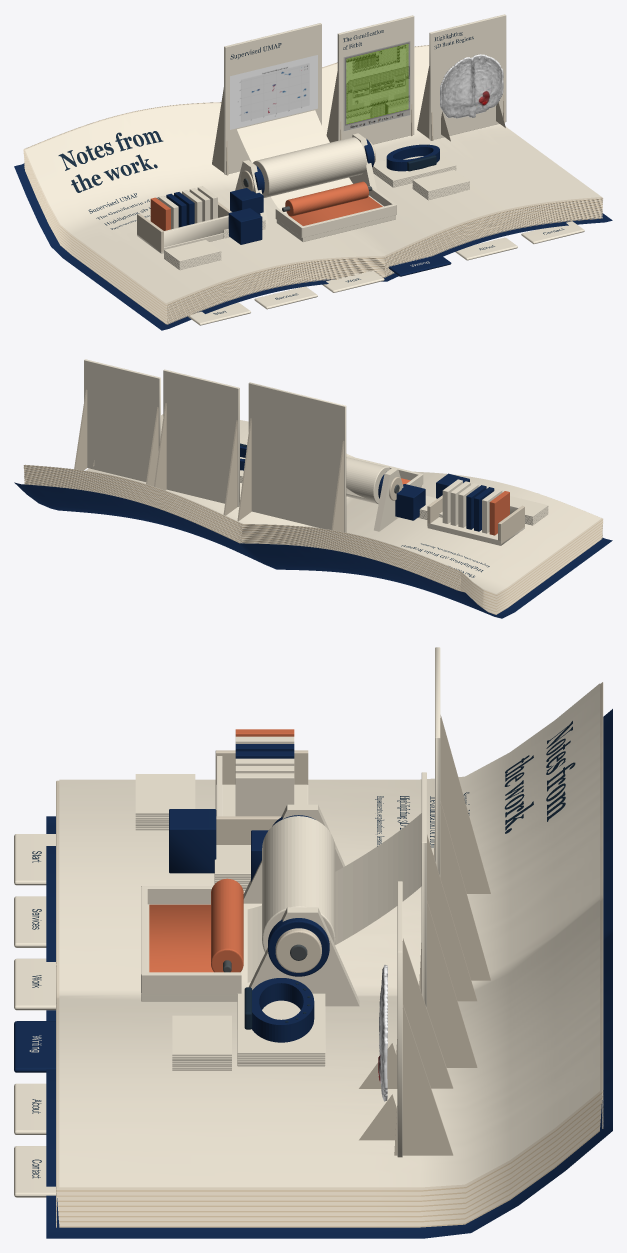
The model's file is writing.glb.
3 views of the same model, one above another, from view 1: azimuth 30°, elevation 25°; view 2: azimuth 150°, elevation 25°; view 3: azimuth 270°, elevation 25° (orthographic). The views are drawn at different scales.
Parts seen in each view (by area): view 1: Continuous folded proof sheet, Fitbit paper pedestal, Brain article folio folded support, Ivory bearing ring, Original Fitbit game scene, Brain article folio, Original supervised embedding, UMAP proof sheet, Fitbit article folio, Leaf fore-edge 2.83 0, Cobalt lower cover, Source brain illustration relief (+11 smaller); view 2: Continuous folded proof sheet, UMAP proof sheet, Brain article folio folded support, Ivory bearing ring, Cobalt lower cover, Fitbit article folio, Brain article folio, Fitbit paper pedestal, Leaf fore-edge 2.83 0, Paper leaf 00, Cobalt roller collar, Coral ink bed; view 3: Continuous folded proof sheet, Brain article folio folded support, Fitbit paper pedestal, Cobalt lower cover, Paper leaf 00, Coral ink bed, Cobalt roller collar, Ivory bearing ring, Fitness wristband, Brain folio heading, Chapter tab Work, Chapter tab Writing (+8 smaller).
Boxes of the visible parts, box(x1,y1,x2,y2) form: Continuous folded proof sheet: box(25, 46, 601, 303); Fitbit paper pedestal: box(137, 137, 469, 269); Brain article folio folded support: box(23, 45, 602, 323); Ivory bearing ring: box(24, 45, 602, 323); Original Fitbit game scene: box(343, 41, 410, 131); Brain article folio: box(429, 14, 506, 140); Original supervised embedding: box(230, 55, 317, 129); UMAP proof sheet: box(224, 23, 321, 174); Fitbit article folio: box(337, 15, 414, 144); Leaf fore-edge 2.83 0: box(24, 166, 602, 324); Cobalt lower cover: box(14, 163, 612, 330); Source brain illustration relief: box(440, 54, 503, 118); Continuous folded proof sheet: box(25, 414, 601, 593); UMAP proof sheet: box(248, 382, 346, 532); Brain article folio folded support: box(23, 389, 603, 614); Ivory bearing ring: box(24, 465, 602, 590); Cobalt lower cover: box(14, 482, 612, 618); Fitbit article folio: box(163, 369, 239, 506); Brain article folio: box(84, 359, 160, 481); Fitbit paper pedestal: box(240, 439, 548, 545); Leaf fore-edge 2.83 0: box(24, 465, 602, 590); Paper leaf 00: box(24, 466, 602, 614); Cobalt roller collar: box(378, 473, 494, 531); Coral ink bed: box(401, 478, 509, 535); Continuous folded proof sheet: box(59, 683, 599, 1187); Brain article folio folded support: box(56, 682, 602, 1226); Fitbit paper pedestal: box(29, 736, 335, 1070); Cobalt lower cover: box(46, 709, 612, 1238); Paper leaf 00: box(56, 1092, 602, 1227); Coral ink bed: box(149, 729, 294, 972); Cobalt roller collar: box(169, 744, 329, 976); Ivory bearing ring: box(56, 682, 603, 1226); Fitness wristband: box(252, 978, 314, 1042); Brain folio heading: box(32, 721, 575, 1178); Chapter tab Work: box(14, 958, 55, 1010); Chapter tab Writing: box(14, 1021, 55, 1072).
Bounding box in the file's own units: 10.35 × 3.83 × 6.21.
Materials: 10 (3 with a texture image).
